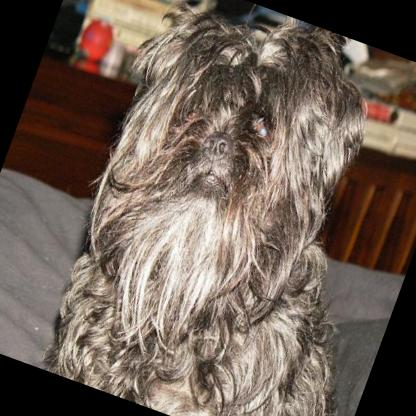affenpinscher: (21, 0, 416, 416)
